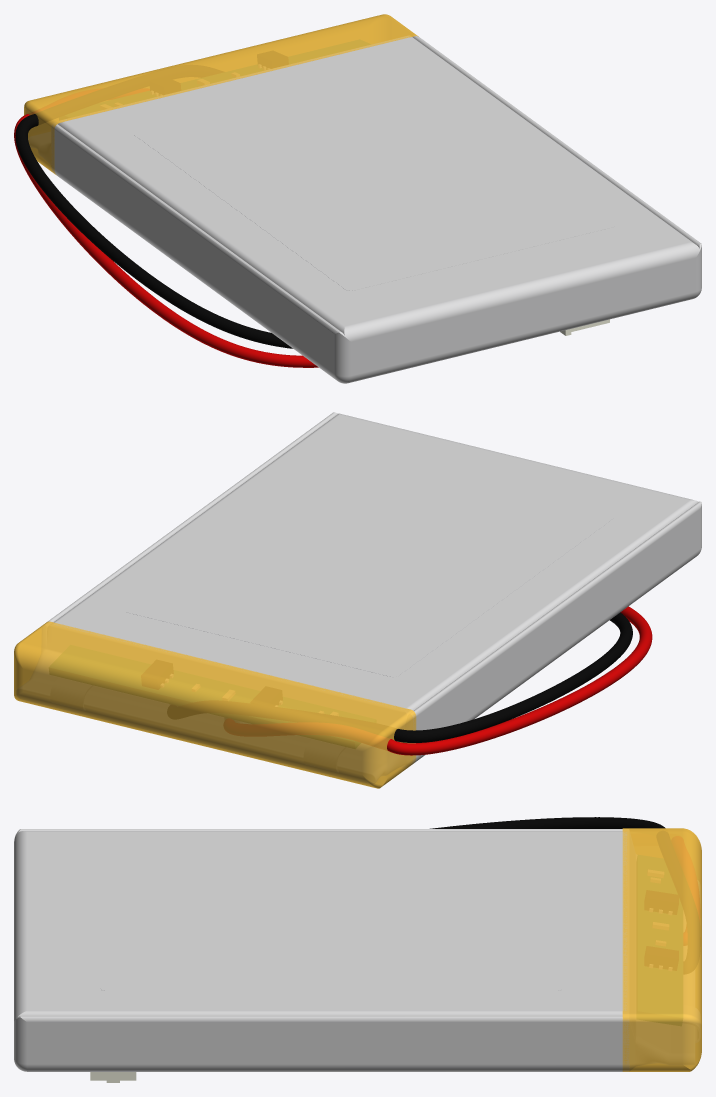
File: battery_cascadio.glb
3 renders of one model, top to bottom at view 1: azimuth 30°, elevation 25°; view 2: azimuth 150°, elevation 25°; view 3: azimuth 270°, elevation 25°, orthographic. The views are drawn at different scales.
Parts seen in each view (by area): view 1: 1000mah Battery Body_Part 1:1, Battery Sticker:1, 1000mah Battery Body_Part 2:1, Battry Wire Red:1; view 2: Battery Sticker:1, 1000mah Battery Body_Part 1:1, 1000mah Battery Body_Part 2:1, Battry Wire Red:1; view 3: 1000mah Battery Body_Part 1:1, Battery Sticker:1, 1000mah Battery Body_Part 2:1, Battry Wire Red:1, JST 2 Pin 1.5mm:1.
Part boxes in pixels (x1,y1,x2,y2): 1000mah Battery Body_Part 1:1: (51, 36, 701, 383); Battery Sticker:1: (133, 68, 615, 290); 1000mah Battery Body_Part 2:1: (24, 14, 418, 174); Battry Wire Red:1: (14, 114, 318, 367); Battery Sticker:1: (124, 450, 613, 676); 1000mah Battery Body_Part 1:1: (48, 412, 701, 764); 1000mah Battery Body_Part 2:1: (14, 621, 416, 788); Battry Wire Red:1: (387, 606, 652, 755); 1000mah Battery Body_Part 1:1: (14, 829, 629, 1071); Battery Sticker:1: (100, 851, 562, 990); 1000mah Battery Body_Part 2:1: (622, 828, 701, 1071); Battry Wire Red:1: (430, 817, 665, 828); JST 2 Pin 1.5mm:1: (90, 1072, 136, 1082).
Size of the model in its own units: 0.0392 by 0.00831 by 0.052.
